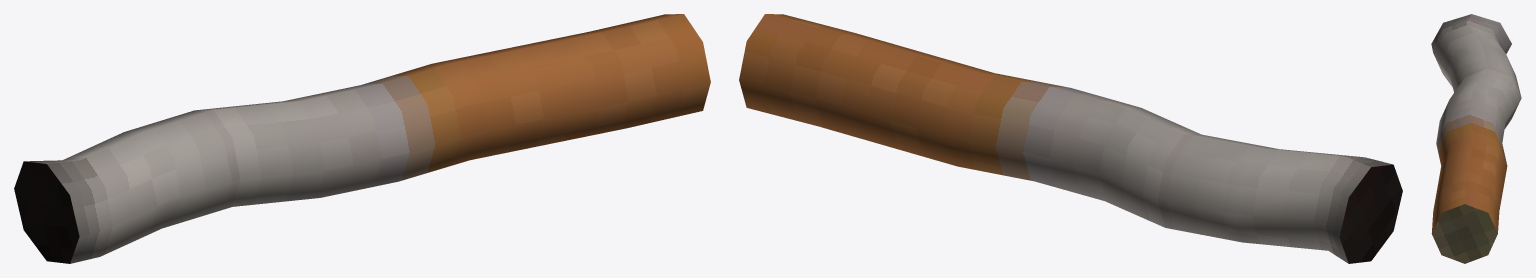
Rendered from cig_2.obj.
3 views of the same model, side by side, from view 1: azimuth 30°, elevation 25°; view 2: azimuth 150°, elevation 25°; view 3: azimuth 270°, elevation 25° (orthographic). The views are drawn at different scales.
Parts seen in each view (by area): view 1: cig_2; view 2: cig_2; view 3: cig_2.
Boxes of the visible parts, left/top/right/bottom form: cig_2: left=14, top=14, right=710, bottom=263; cig_2: left=739, top=14, right=1402, bottom=263; cig_2: left=1431, top=14, right=1521, bottom=263.
Size of the model in its own units: 0.0918 by 0.0135 by 0.0184.
